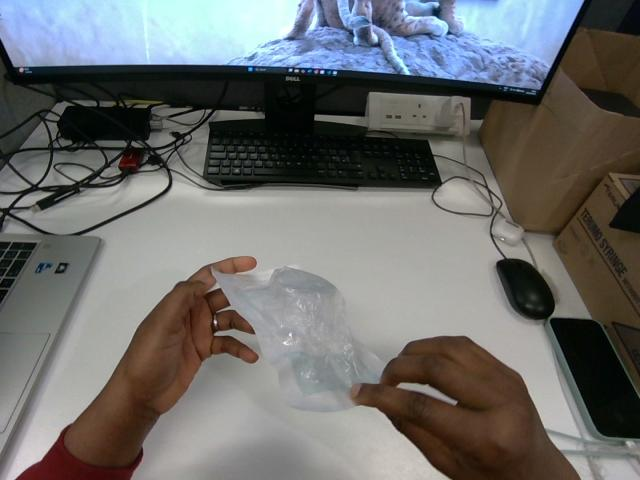gallipot: (212, 267, 383, 411)
